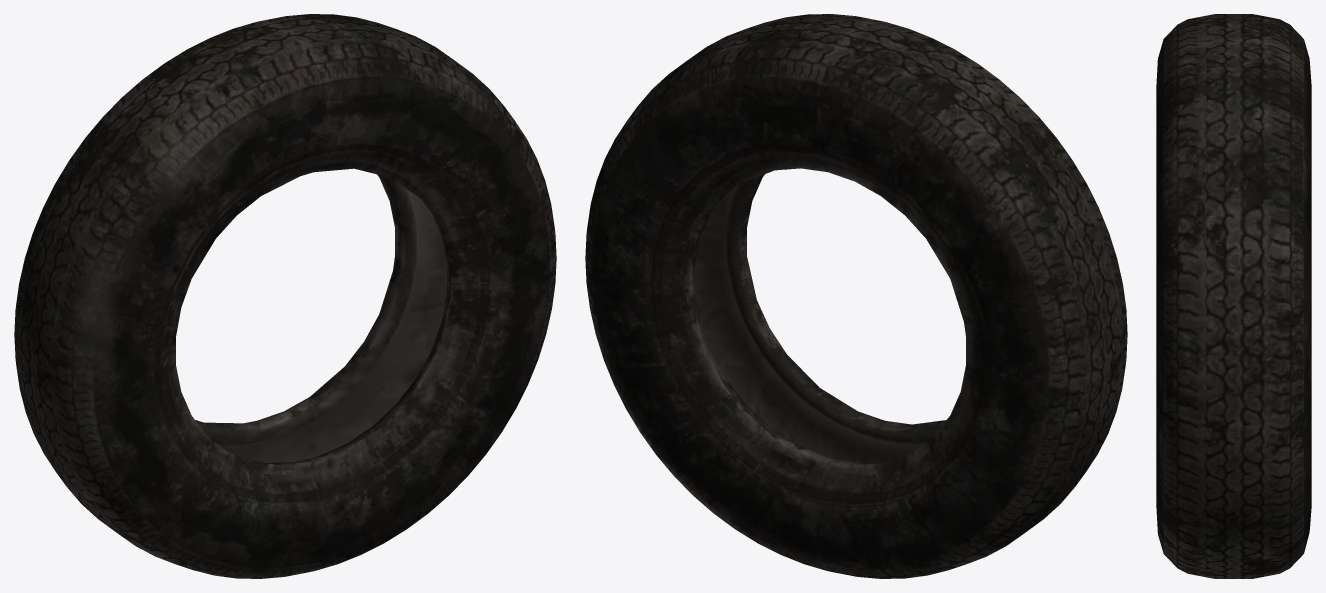
The model's file is old_tyre.glb.
3 renders of one model, left to right at view 1: azimuth 30°, elevation 25°; view 2: azimuth 150°, elevation 25°; view 3: azimuth 270°, elevation 25°, orthographic. The views are drawn at different scales.
Visible parts, largest first — view 1: old_tyre; view 2: old_tyre; view 3: old_tyre.
Boxes of the visible parts, left/top/right/bottom form: old_tyre: left=14, top=14, right=556, bottom=578; old_tyre: left=585, top=14, right=1127, bottom=578; old_tyre: left=1156, top=14, right=1311, bottom=578.
Bounding box in the file's own units: 0.6 × 0.6 × 0.165.
1 material, 1 textured.
